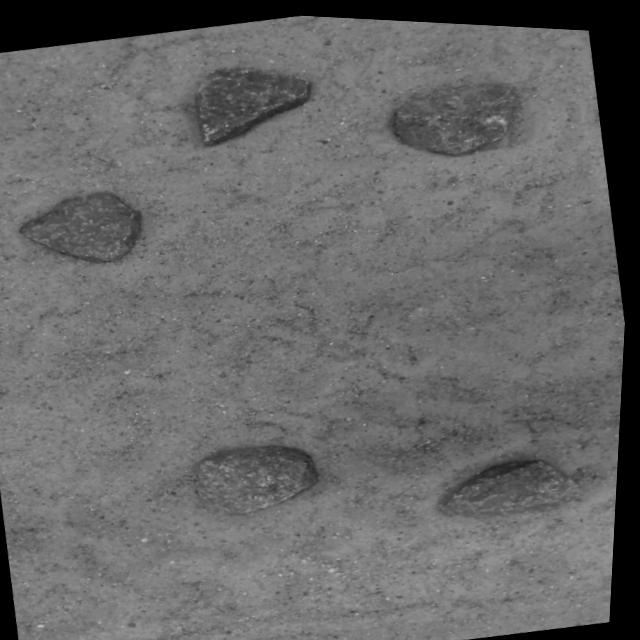rock: (395, 76, 516, 148), (196, 64, 309, 141), (22, 190, 142, 259), (201, 443, 321, 510), (447, 454, 585, 510)
